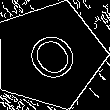O_SE: (16, 22, 84, 89)
